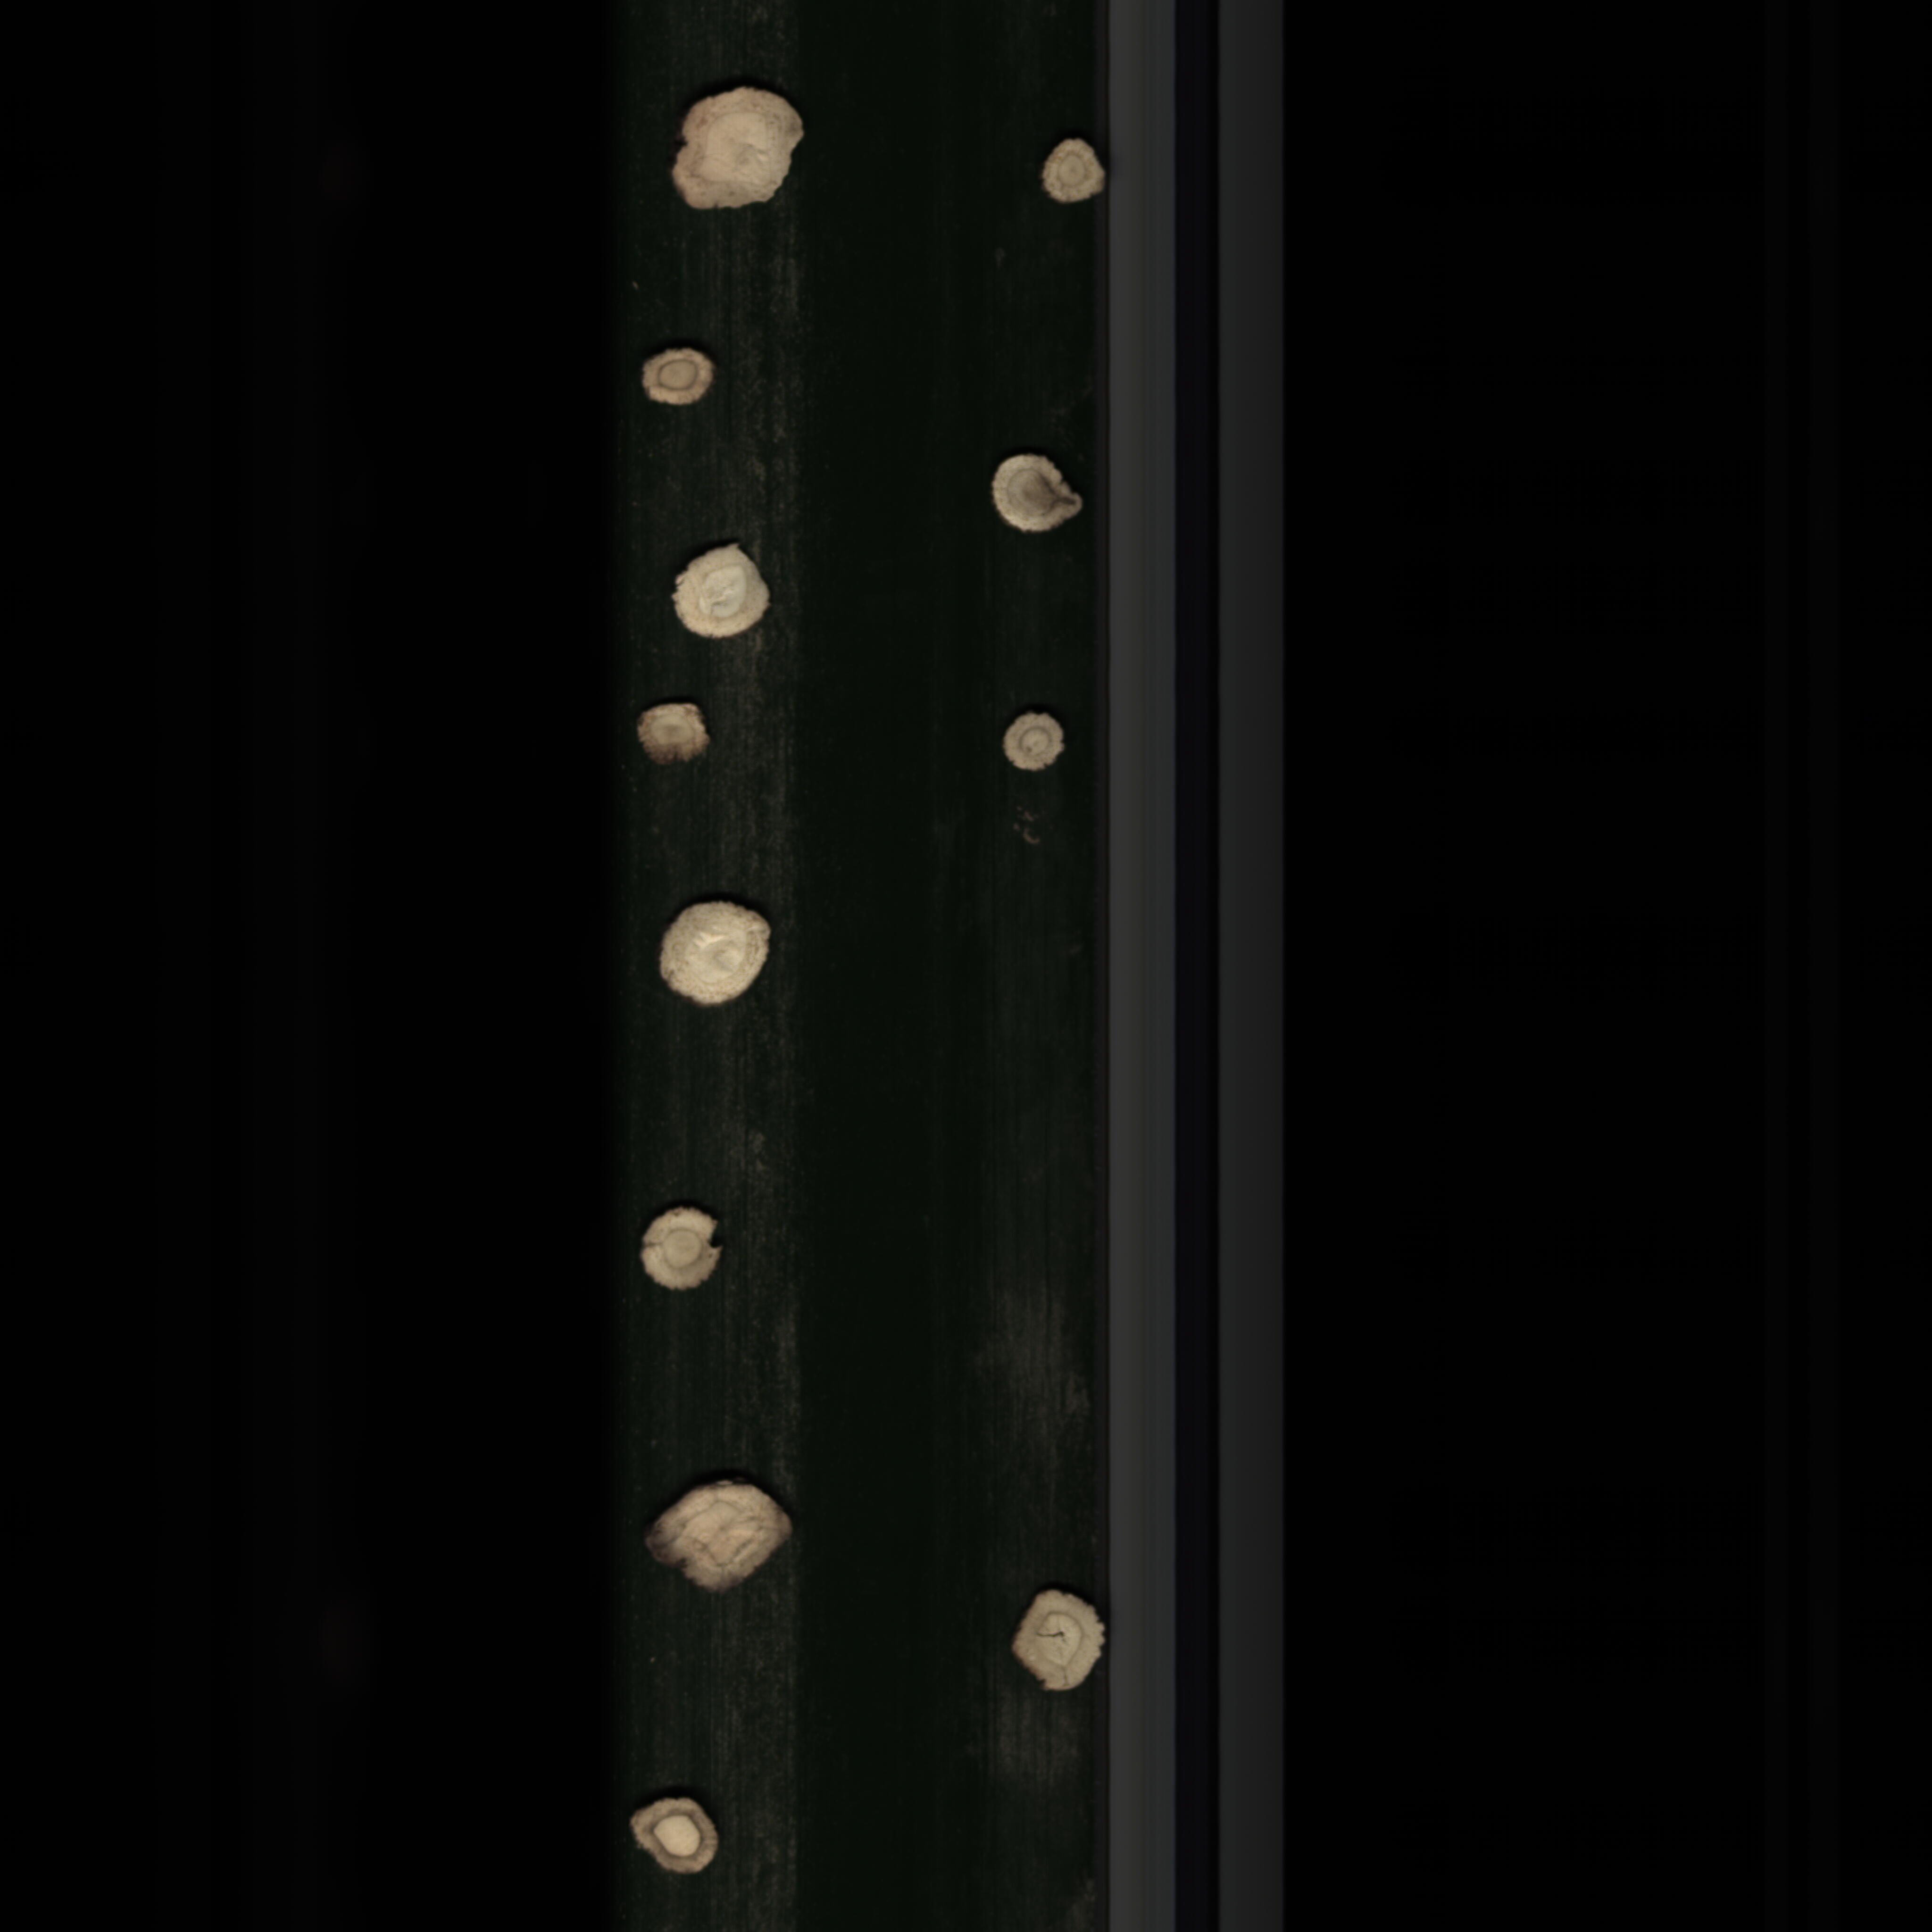distortion: (633, 1465, 812, 1617), (671, 87, 803, 221)
moldy: (633, 688, 722, 768), (635, 341, 722, 416)
